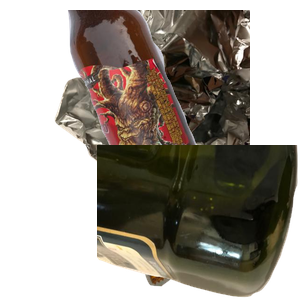glass: (65, 10, 300, 190)
metal: (52, 10, 292, 190)
plastic: (97, 145, 300, 300)
trash: (103, 147, 300, 300)
